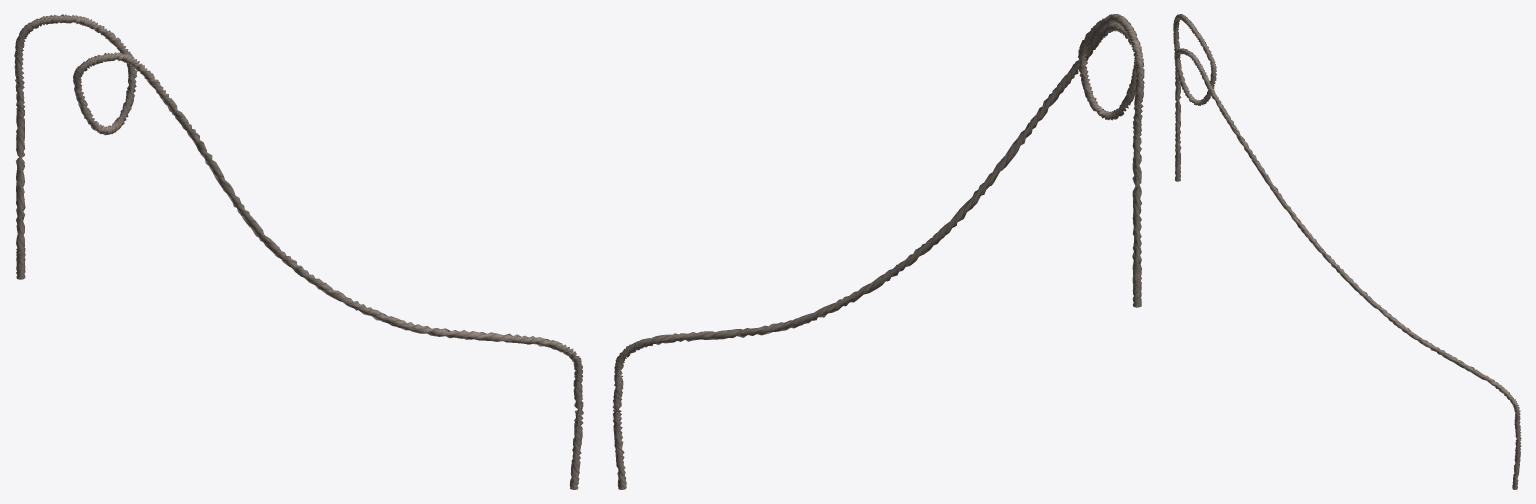
File: SM_RopeSplineMesh_Splines_39.fbx
The picture shows the model from 3 angles, left to right: view 1: azimuth 30°, elevation 25°; view 2: azimuth 150°, elevation 25°; view 3: azimuth 330°, elevation 25°; orthographic projection. The views are drawn at different scales.
Visible parts, largest first — view 1: SM_RopeSplineMesh_Splines_39; view 2: SM_RopeSplineMesh_Splines_39; view 3: SM_RopeSplineMesh_Splines_39.
Part boxes in pixels (x1,y1,x2,y2): SM_RopeSplineMesh_Splines_39: (14,14,583,489); SM_RopeSplineMesh_Splines_39: (612,14,1144,489); SM_RopeSplineMesh_Splines_39: (1173,14,1521,489).
Size of the model in its own units: 170 by 26.65 by 175.
